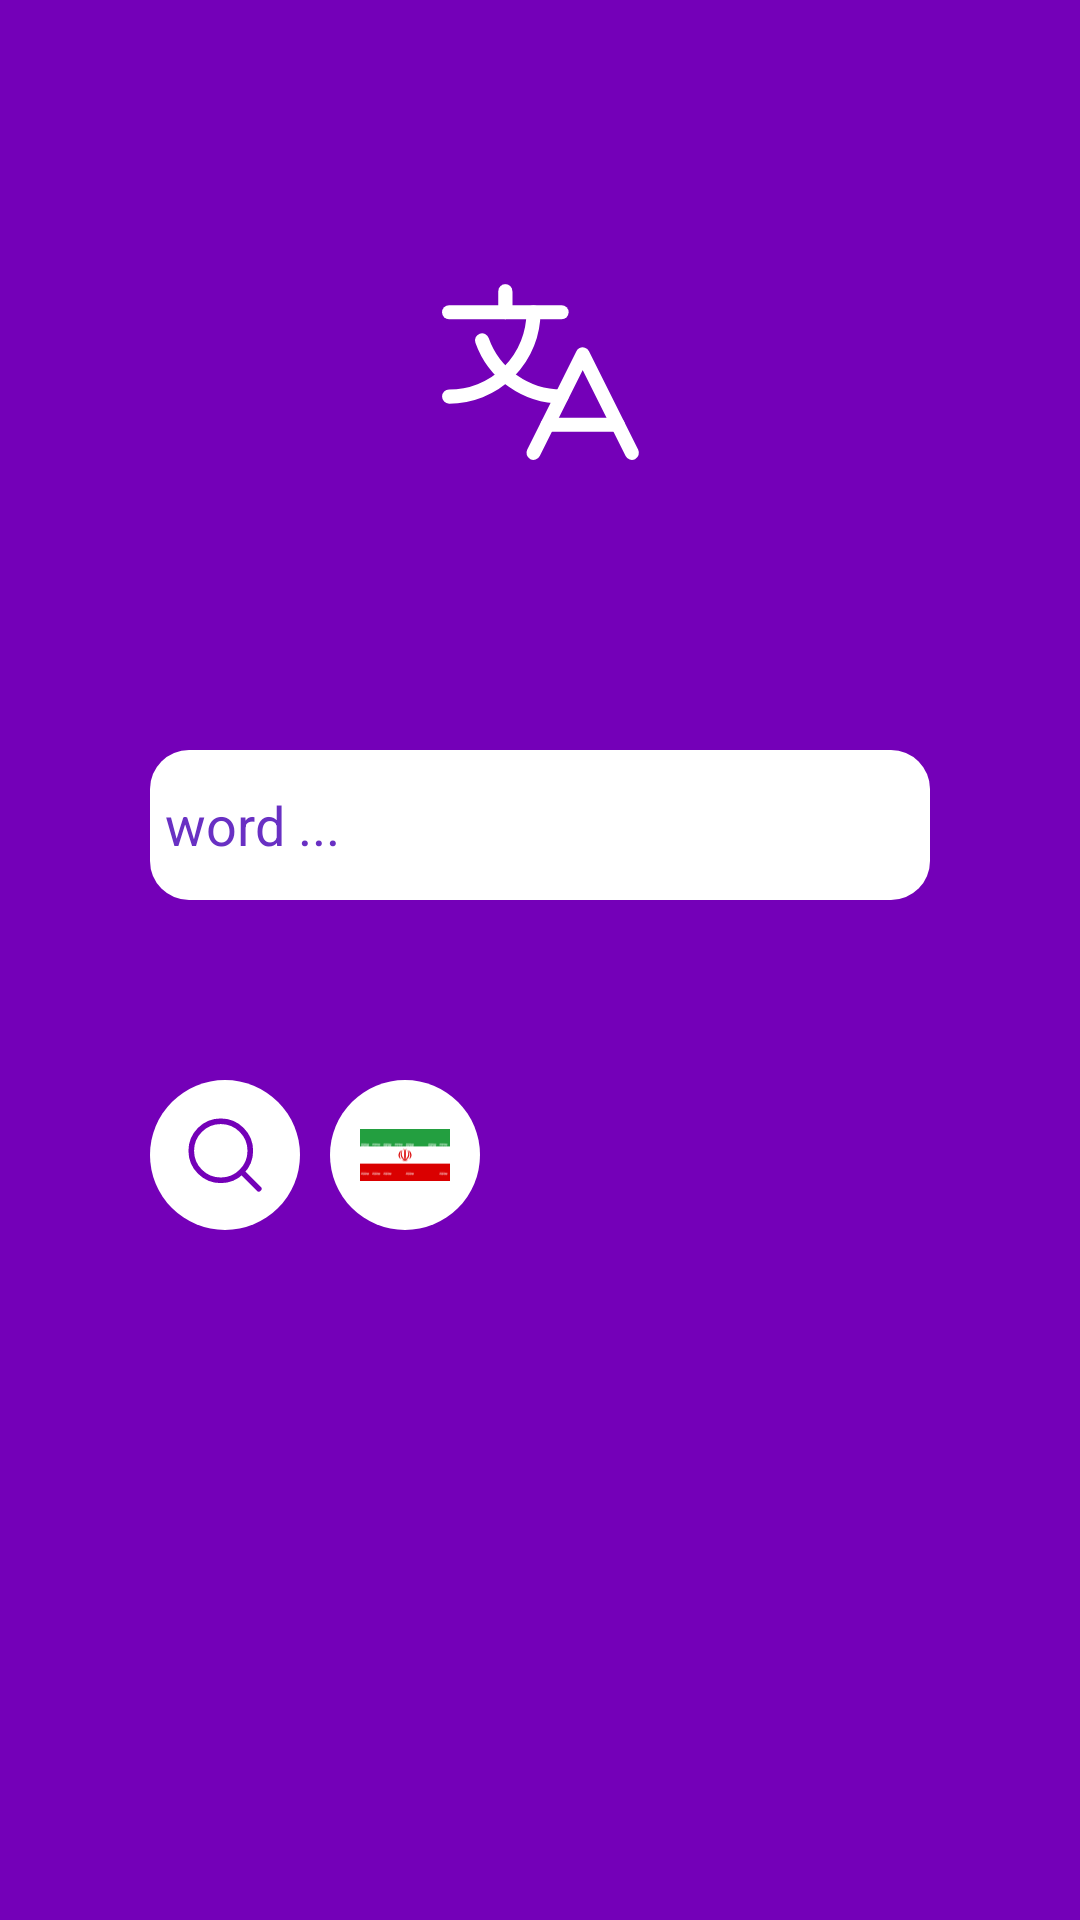

Screen size 1080*1920. Icon name, then its box in pixels as (x1, y1, x2, y2):
flag iran: (330, 1080, 480, 1230)
magnifying glass: (150, 1080, 300, 1230)
